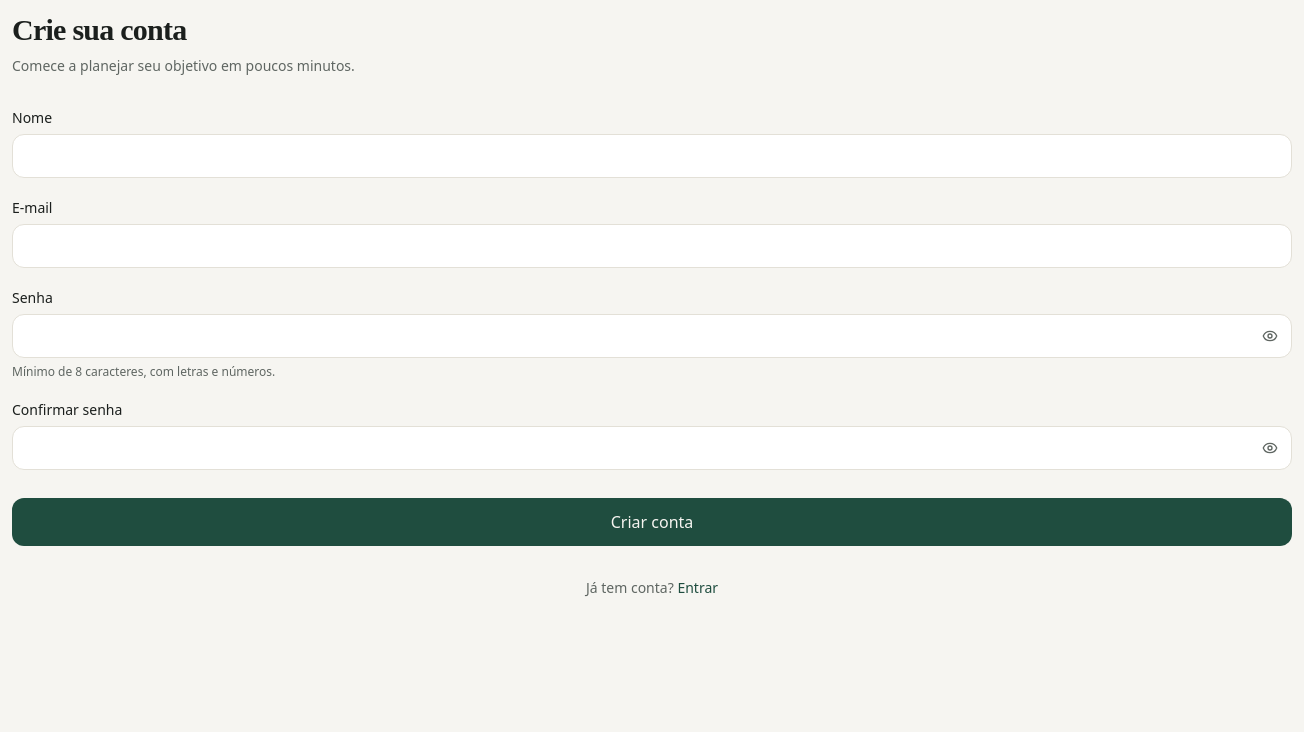
it: RegisterPage › exige senhas iguais
The width and height of the screenshot is (1304, 732).
Step 1. Type "Beatriz" into the field labelled "Nome" → coordinates (652, 156), box x1=12 y1=134 x2=1292 y2=178
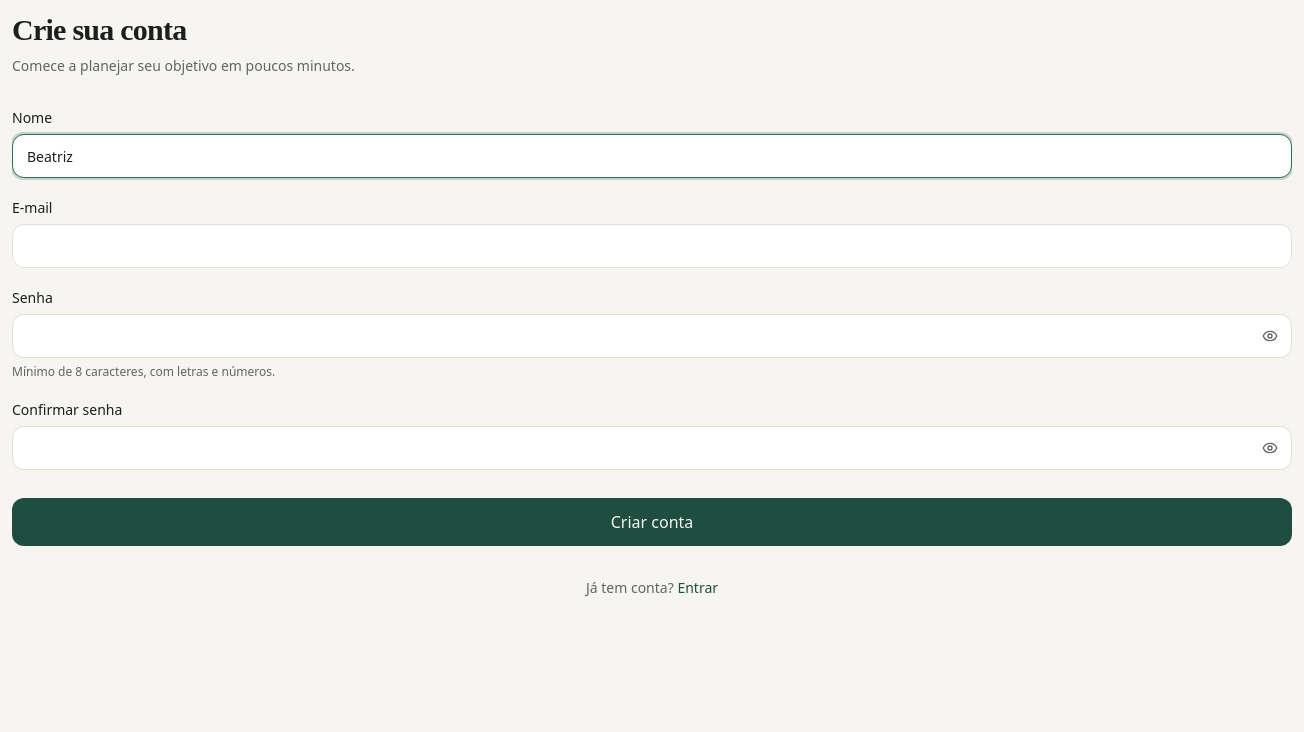
Step 2. Type "bia@example.com" into the field labelled "E-mail" → coordinates (652, 246), box x1=12 y1=224 x2=1292 y2=268
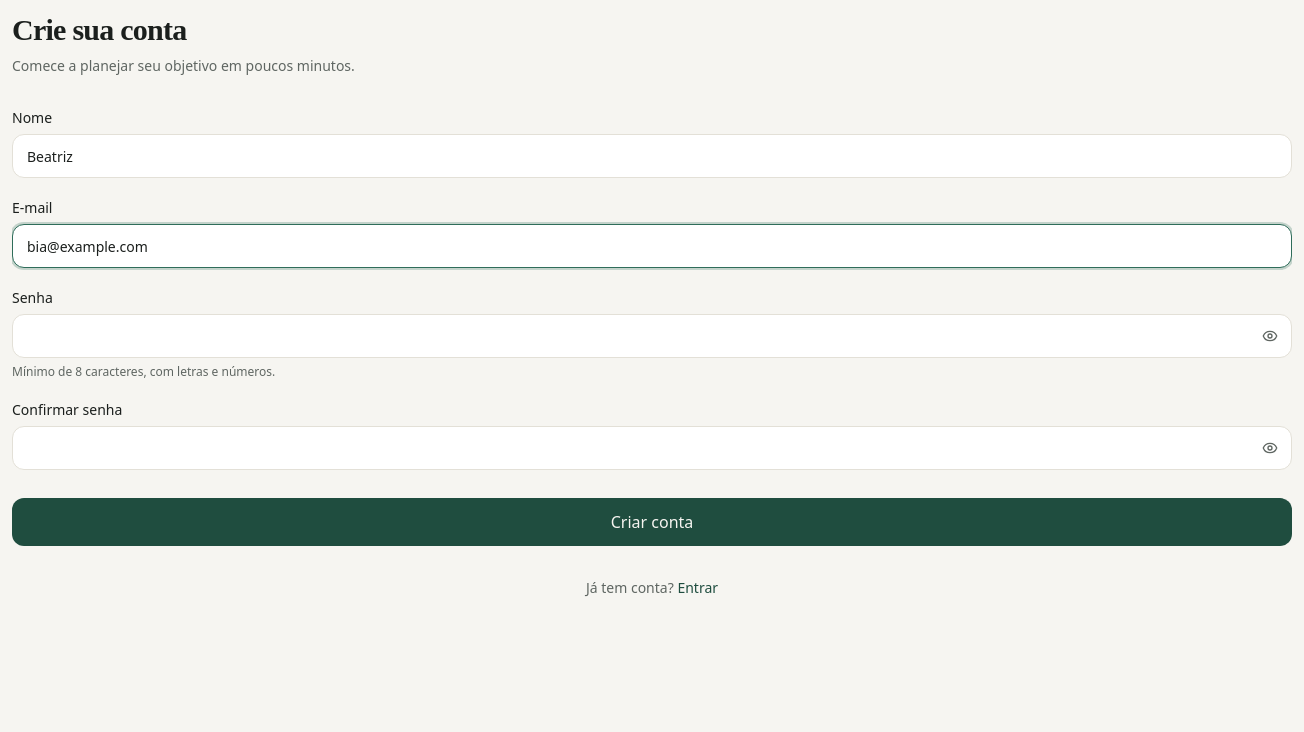
Step 3. Type "senhaForte1" into the password field labelled "Senha" → coordinates (652, 336), box x1=12 y1=314 x2=1292 y2=358
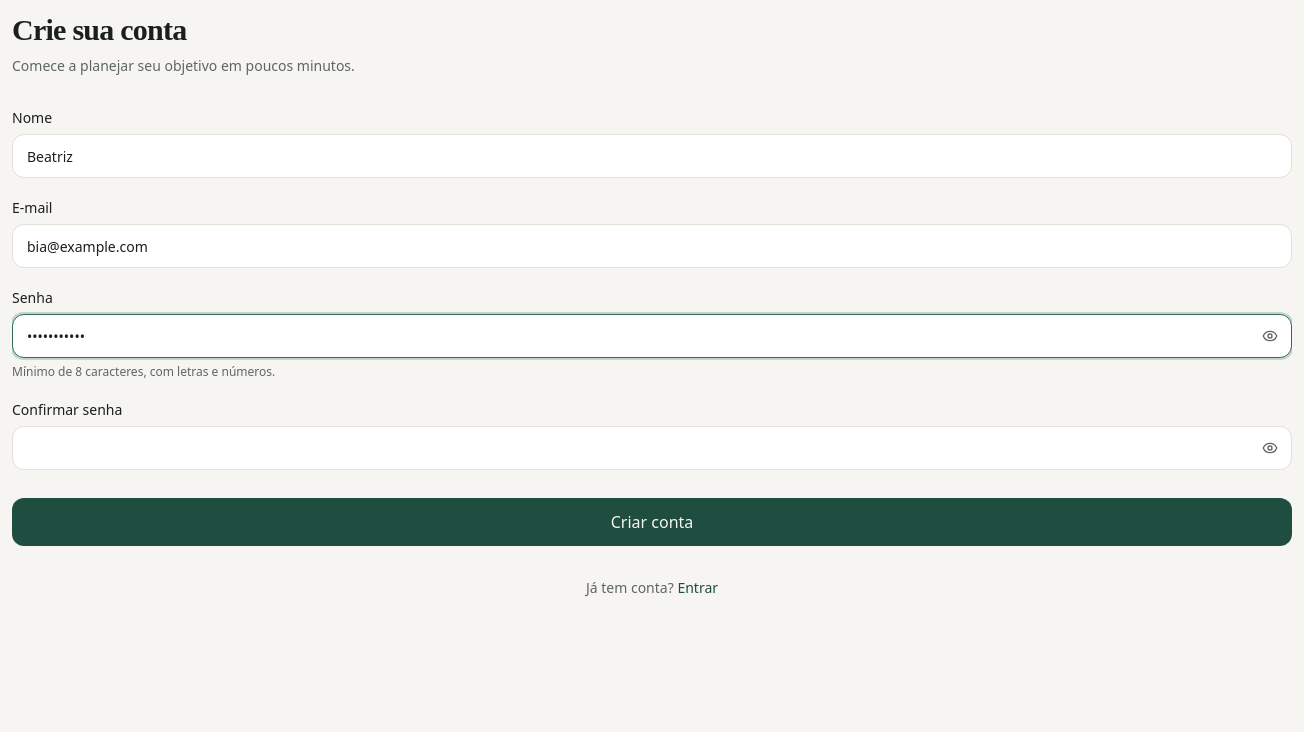
Step 4. Type "outraSenha1" into the password field labelled "Confirmar senha" → coordinates (652, 448), box x1=12 y1=426 x2=1292 y2=470
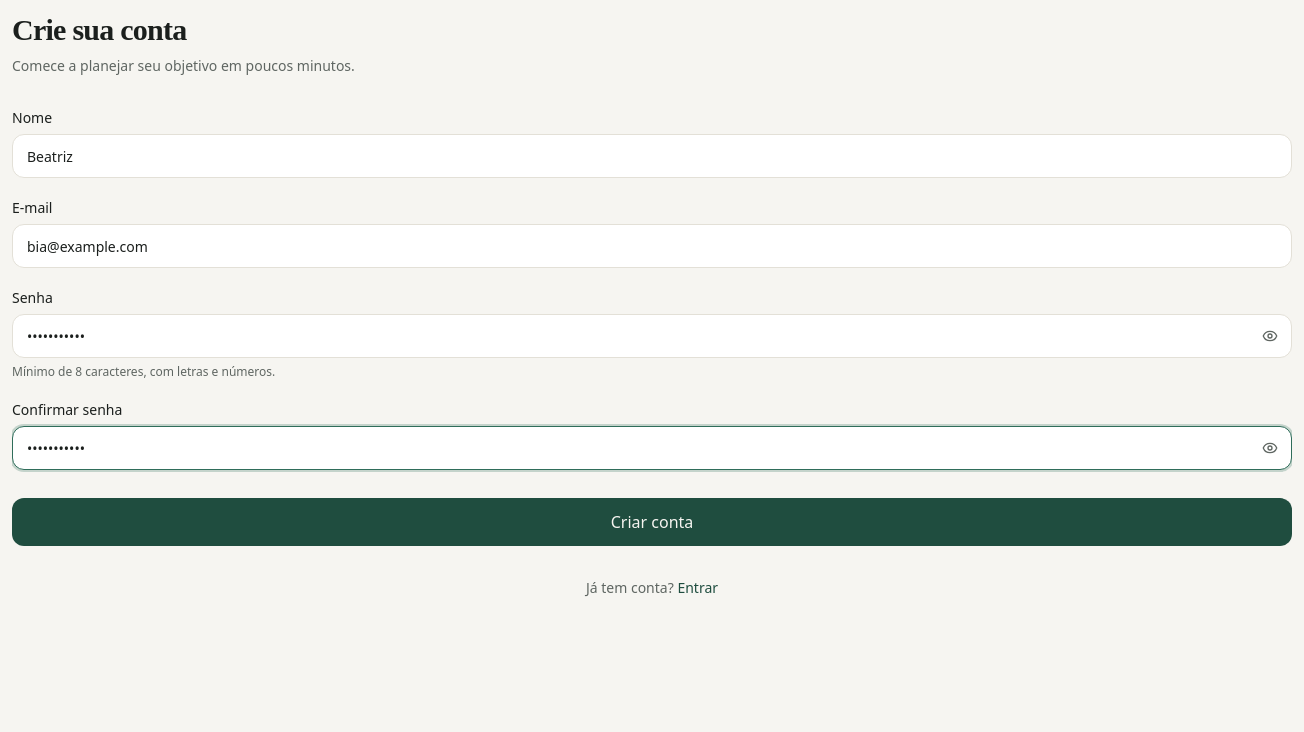
Step 5. Click the button "Criar conta" → coordinates (652, 522), box x1=12 y1=498 x2=1292 y2=546
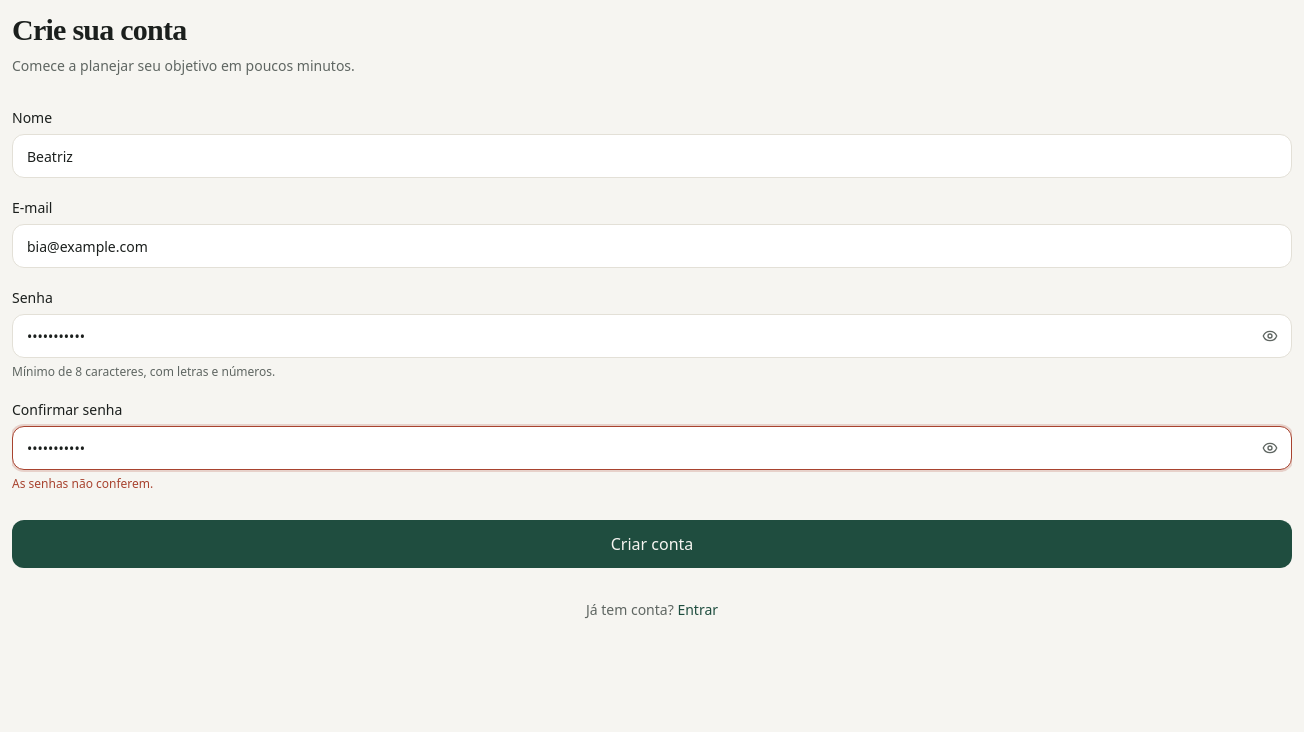
Expected: the text "As senhas não conferem." is shown, x1=12 y1=475 x2=153 y2=492
